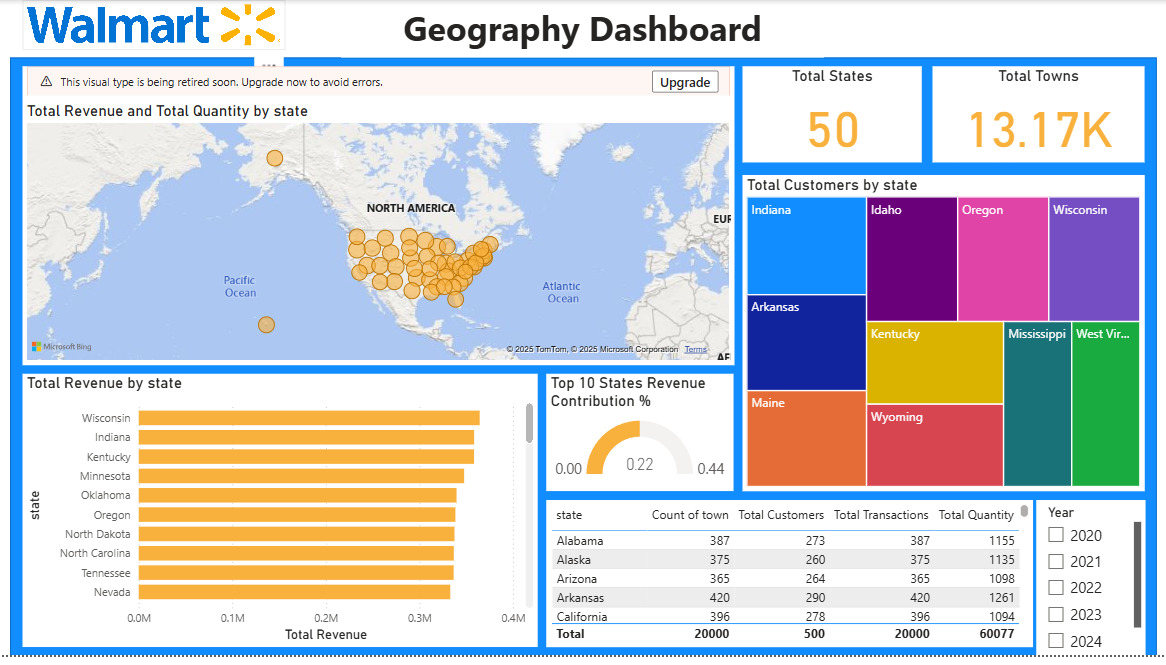

The page's visual inventory and layout, read from the dashboard file:
{"tool":"powerbi","page":{"name":"Geography","canvas":[1280,720],"ordinal":3},"visuals":[{"type":"shape","box":[11.2,63.4,1258.9,656.8],"z":0},{"type":"image","box":[24.9,0,288.6,54.7],"z":1000},{"type":"textbox","box":[374.4,0,529.9,63.4],"z":2000},{"type":"map","fields":{"Category":["FactSales.state"],"Size":["FactSales.Total Revenue"]},"box":[24.3,72.9,781.4,327.1],"z":3000},{"type":"treemap","fields":{"Values":["FactSales.Total Customers"],"Group":["FactSales.state"]},"box":[815.7,191.4,441.4,347.1],"z":4000},{"type":"gauge","fields":{"Y":["FactSales.Top 10 States Revenue Contribution %"]},"box":[600,410,205.7,128.6],"z":5000},{"type":"clusteredBarChart","fields":{"Category":["FactSales.state"],"Y":["FactSales.Total Revenue"]},"box":[24.3,410,565.7,300],"z":6000},{"type":"tableEx","fields":{"Values":["FactSales.state","FactSales.town","FactSales.Total Customers","FactSales.Total Transactions","FactSales.Total Quantity"]},"box":[600,548.6,534.3,161.4],"z":7000},{"type":"slicer","fields":{"Values":["DimDate.Year"]},"box":[1137.1,548.6,120,171.4],"z":8000},{"type":"card","title":"Total States","fields":{"Values":["Count(FactSales.state)"]},"box":[815.7,72.9,197.1,105.7],"z":9000},{"type":"card","title":"Total Towns","fields":{"Values":["Count(FactSales.town)"]},"box":[1024.3,72.9,232.9,105.7],"z":10000}]}

Visuals, with their boxes in screenshot pixels (x1, y1, x2, y2), scaled from the page's 1280x720 canvas onto the 1166x665 screenshot:
shape: Rect(10, 59, 1157, 664)
image: Rect(23, 0, 286, 51)
textbox: Rect(341, 0, 824, 59)
map - FactSales.state x FactSales.Total Revenue: Rect(22, 67, 734, 369)
treemap - FactSales.Total Customers x FactSales.state: Rect(743, 177, 1145, 497)
gauge - FactSales.Top 10 States Revenue Contribution %: Rect(547, 379, 734, 497)
clusteredBarChart - FactSales.state x FactSales.Total Revenue: Rect(22, 379, 537, 656)
tableEx - FactSales.state x FactSales.town: Rect(547, 507, 1033, 656)
slicer - DimDate.Year: Rect(1036, 507, 1145, 664)
"Total States" card: Rect(743, 67, 923, 165)
"Total Towns" card: Rect(933, 67, 1145, 165)
